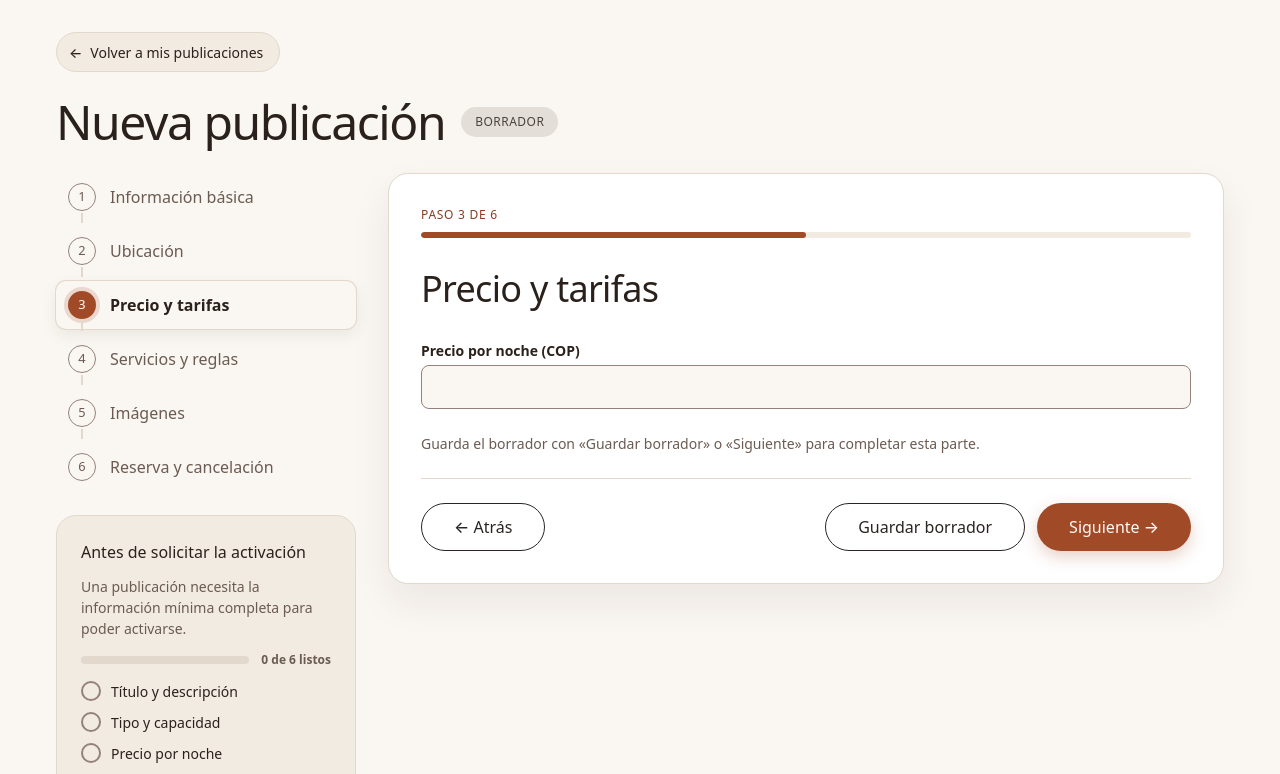
Test: PublicacionFormPage › un error que está en otro paso lleva a ese paso
Click the button "Guardar borrador" at (925, 527), box [825,503,1025,551]
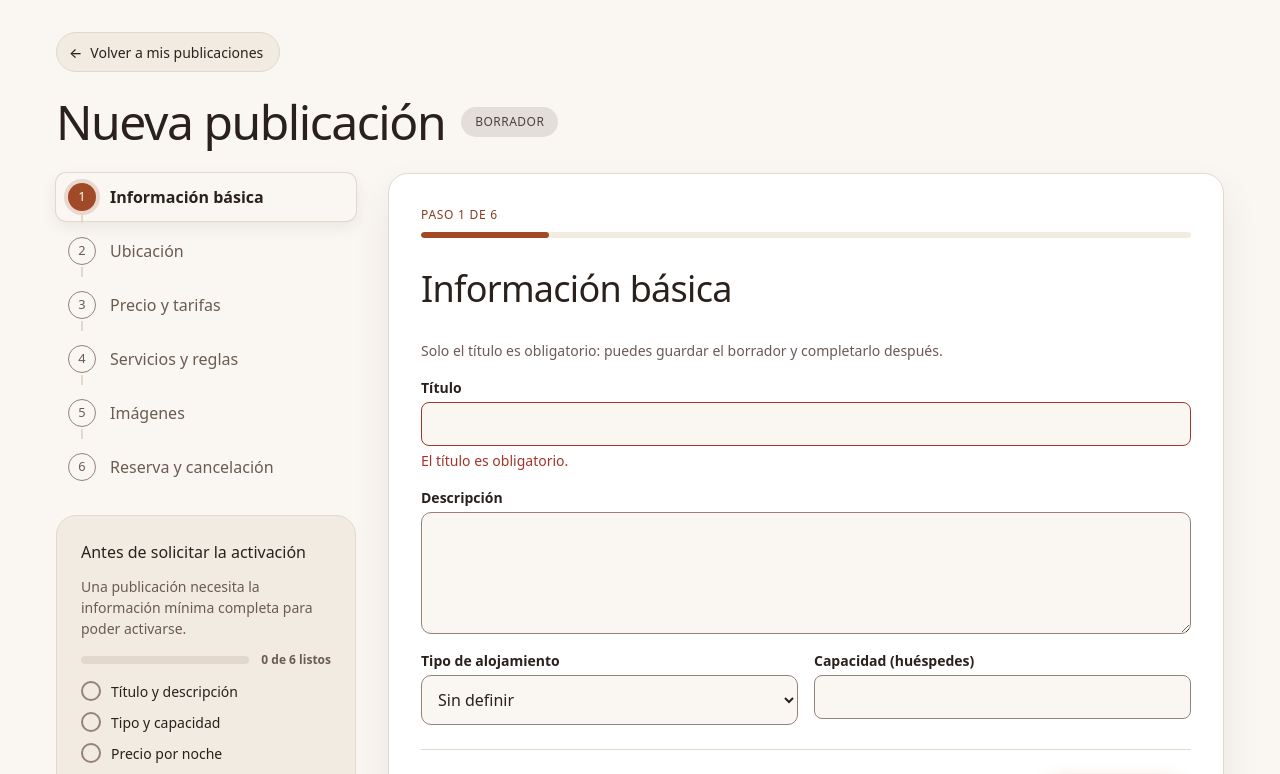
Expected: the text "PASO 1 DE 6" is shown, [421,206,498,223]
Expected: the text "El título es obligatorio." is shown, [421,451,568,470]
